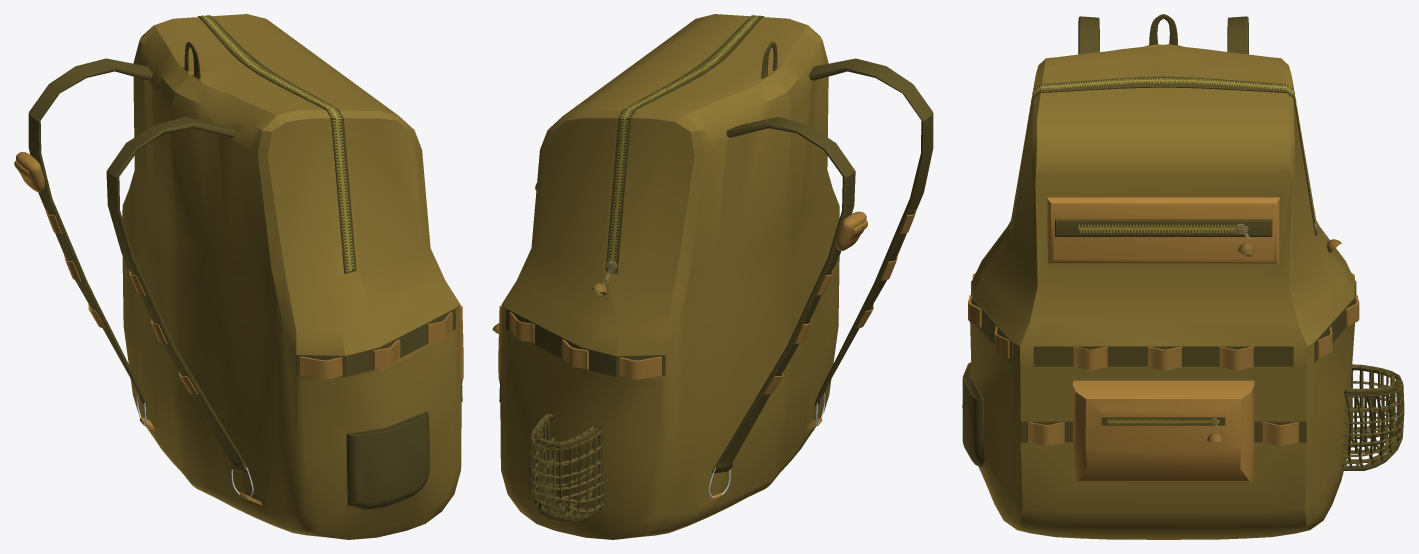
The model's file is Backpack.glb.
3 views of the same model, side by side, from view 1: azimuth 30°, elevation 25°; view 2: azimuth 150°, elevation 25°; view 3: azimuth 270°, elevation 25° (orthographic). The views are drawn at different scales.
Parts seen in each view (by area): view 1: Cubo; view 2: Cubo; view 3: Cubo.
Part boxes in pixels (bbox=[...]): Cubo: bbox=[14, 14, 463, 539]; Cubo: bbox=[492, 14, 933, 539]; Cubo: bbox=[962, 14, 1404, 539].
Size of the model in its own units: 1.37 by 1.62 by 1.44.
